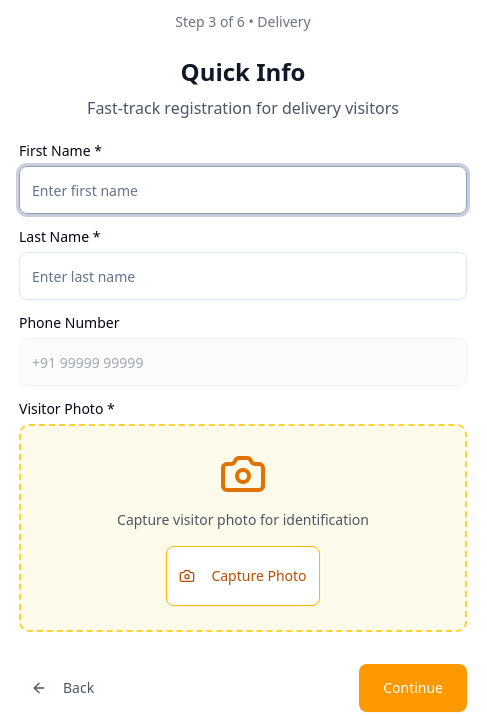
Test: DeliveryRegistrationForm › Form Validation › should validate required fields and show errors on submit
Click the button "Continue".
click(413, 688)  # box [359,664,467,712]
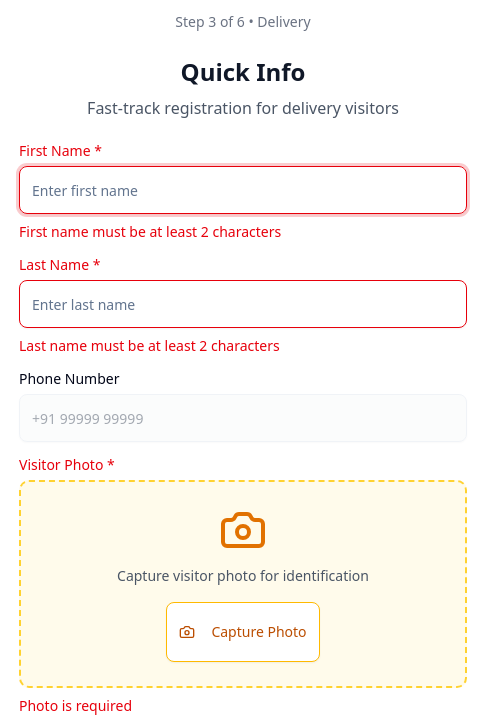
Check: the text "First name must be at least 2 characters" is shown, box [19,222,281,241]
Check: the text "Last name must be at least 2 characters" is shown, box [19,336,280,355]
Check: the text "Photo is required" is shown, box [19,696,132,715]
